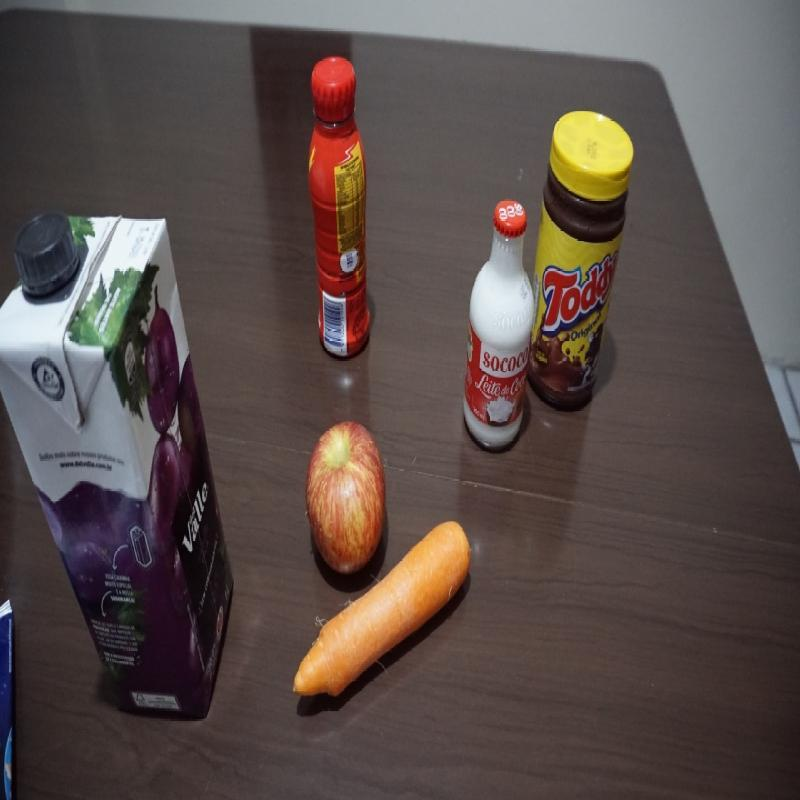Apple: (304, 414, 386, 568)
Carrot: (293, 567, 462, 697)
Chocolate Milk: (307, 55, 372, 356)
Chocolate Powder: (540, 106, 632, 414)
Coconut Milk: (465, 196, 533, 447)
